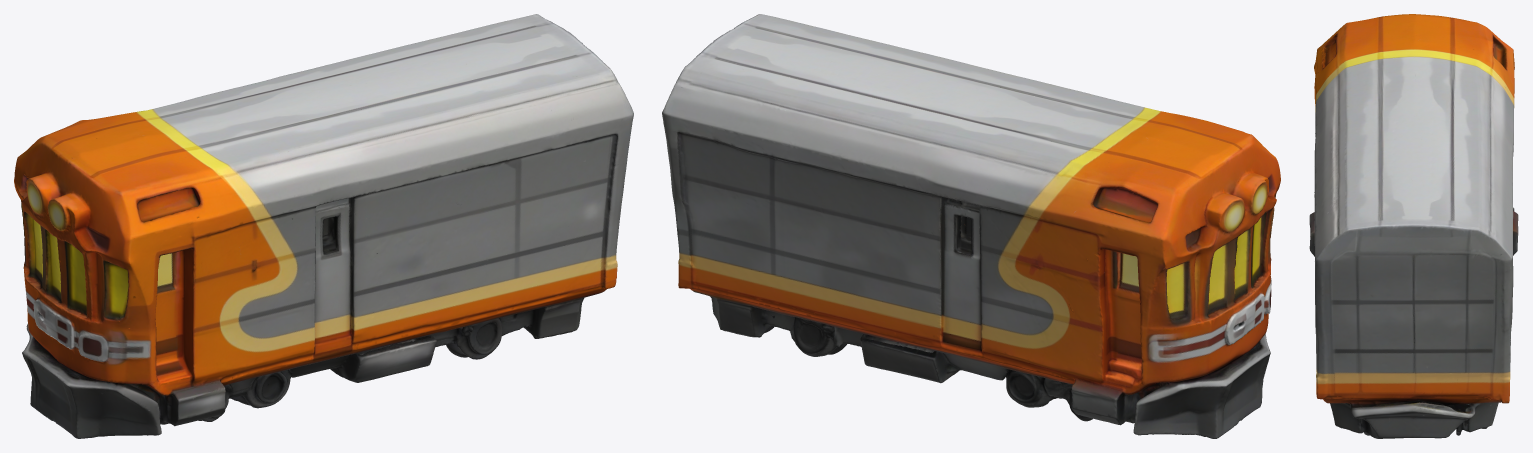
File: Orange Bogge.glb
The picture shows the model from 3 angles, left to right: view 1: azimuth 30°, elevation 25°; view 2: azimuth 150°, elevation 25°; view 3: azimuth 270°, elevation 25°; orthographic projection. The views are drawn at different scales.
Bounding box in the file's own units: 2 × 0.9723 × 0.778.
Materials: 1 (1 with a texture image).
